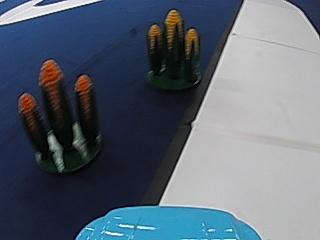corn: (21, 70, 102, 175), (143, 6, 203, 93)
